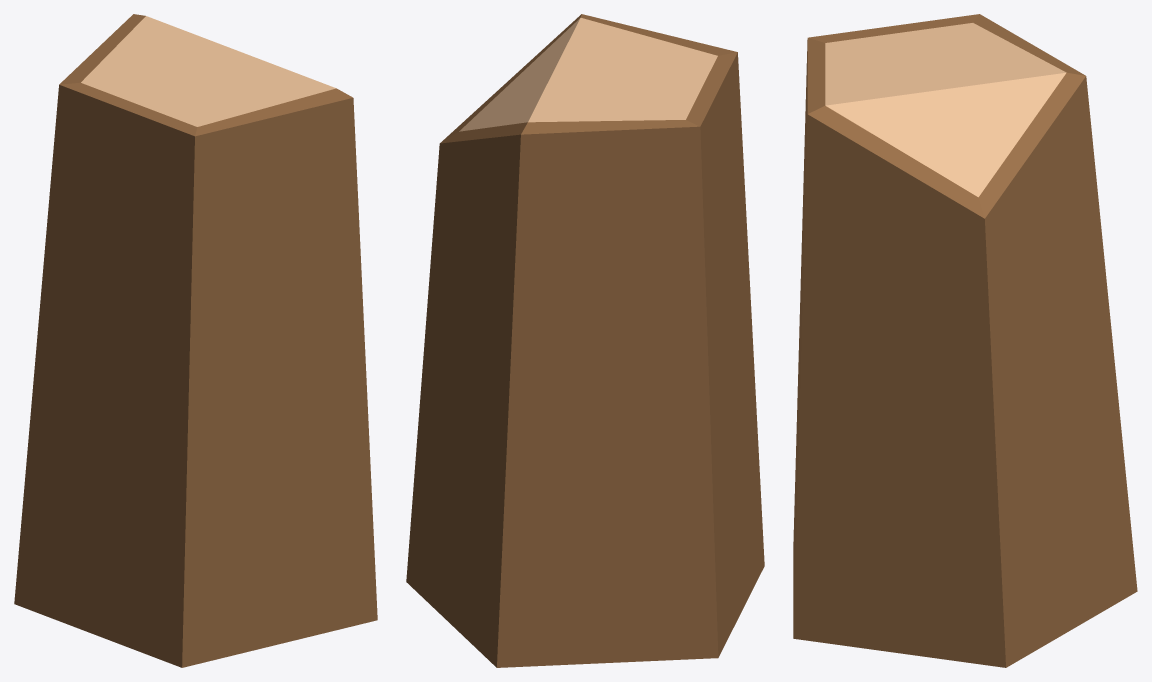
The model's file is Pine_Stump_03.fbx.
3 renders of one model, left to right at view 1: azimuth 30°, elevation 25°; view 2: azimuth 150°, elevation 25°; view 3: azimuth 270°, elevation 25°, orthographic.
Visible parts, largest first — view 1: Pine_Stump_03; view 2: Pine_Stump_03; view 3: Pine_Stump_03.
Part boxes in pixels (x1,y1,x2,y2): Pine_Stump_03: (14, 14, 377, 667); Pine_Stump_03: (406, 14, 764, 667); Pine_Stump_03: (793, 14, 1137, 667).
Size of the model in its own units: 61.88 by 98.3 by 58.85.
